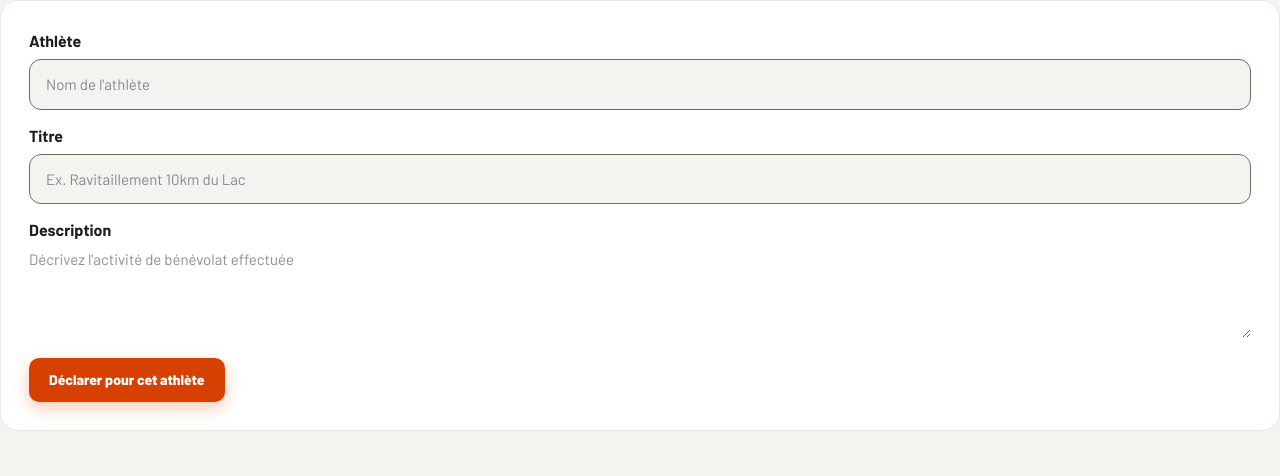
Test case: VolunteerActionForm › distingue une recherche en échec d'une recherche sans résultat, et l'annonce au lecteur d'écran
The width and height of the screenshot is (1280, 476).
Type "Ker" into the field labelled "Athlète".
click(640, 84); type("Ker")  # box [46,73,1234,96]
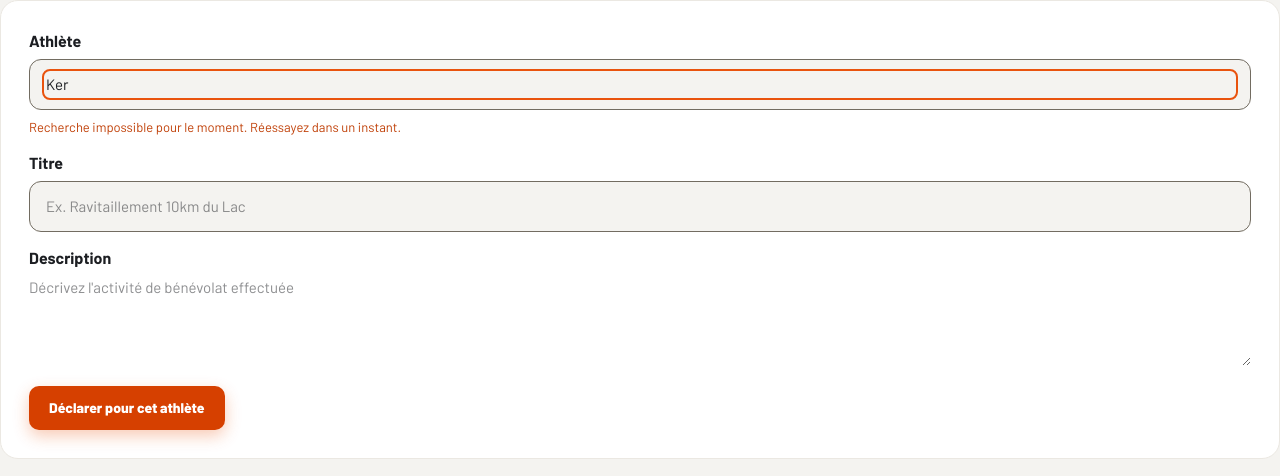
Result: the message shows "Recherche impossible" at [29,118,401,134]
